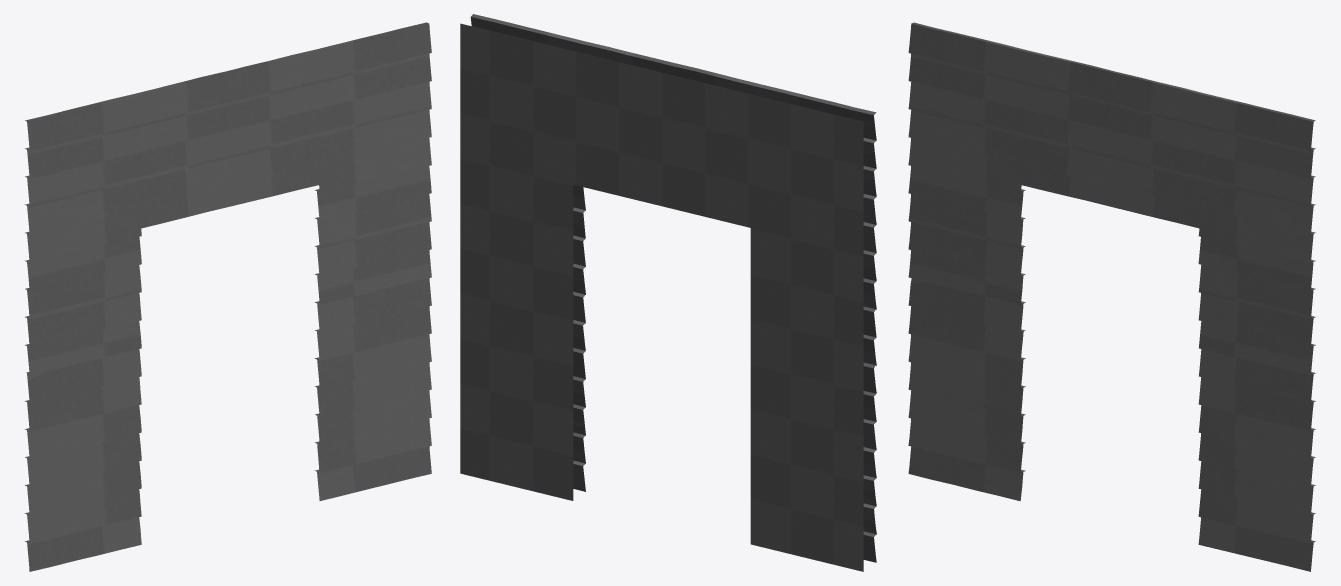
The model's file is SM_House_ExtWall_Door_A.glb.
3 renders of one model, left to right at view 1: azimuth 30°, elevation 25°; view 2: azimuth 150°, elevation 25°; view 3: azimuth 330°, elevation 25°, orthographic.
Visible parts, largest first — view 1: SM_House_ExtWall_Door_A; view 2: SM_House_ExtWall_Door_A; view 3: SM_House_ExtWall_Door_A.
Part boxes in pixels (left/top/right/bottom): SM_House_ExtWall_Door_A: left=24, top=22, right=431, bottom=571; SM_House_ExtWall_Door_A: left=460, top=14, right=876, bottom=571; SM_House_ExtWall_Door_A: left=908, top=22, right=1315, bottom=571.
Bounding box in the file's own units: 300 × 321 × 20.37.
Materials: 1 (1 with a texture image).
